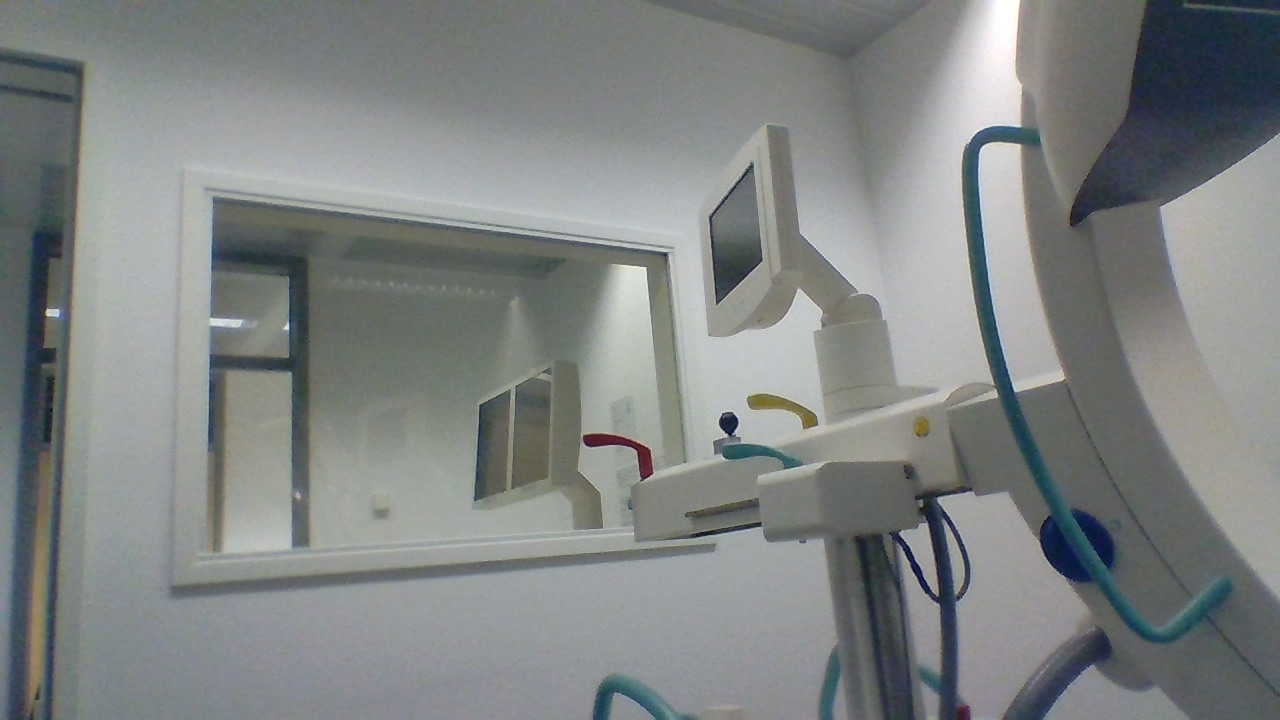carmLOCK: (1039, 503, 1119, 583)
carmSCREEN: (696, 121, 807, 340)
